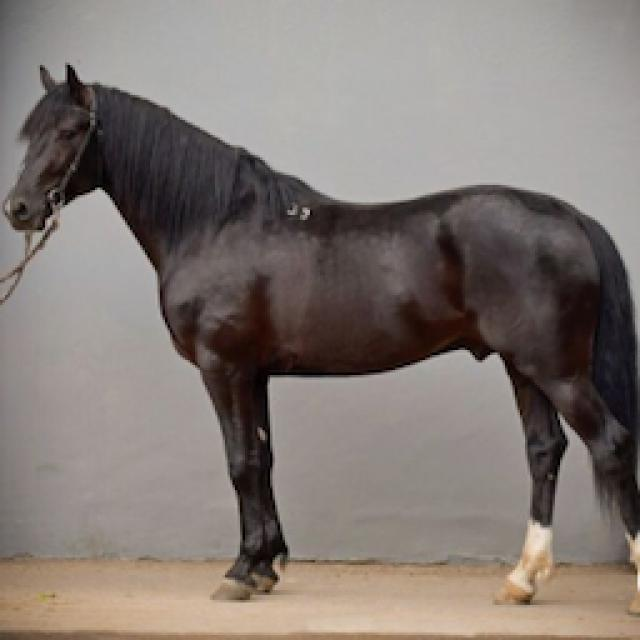Horse: (0, 55, 638, 618)
